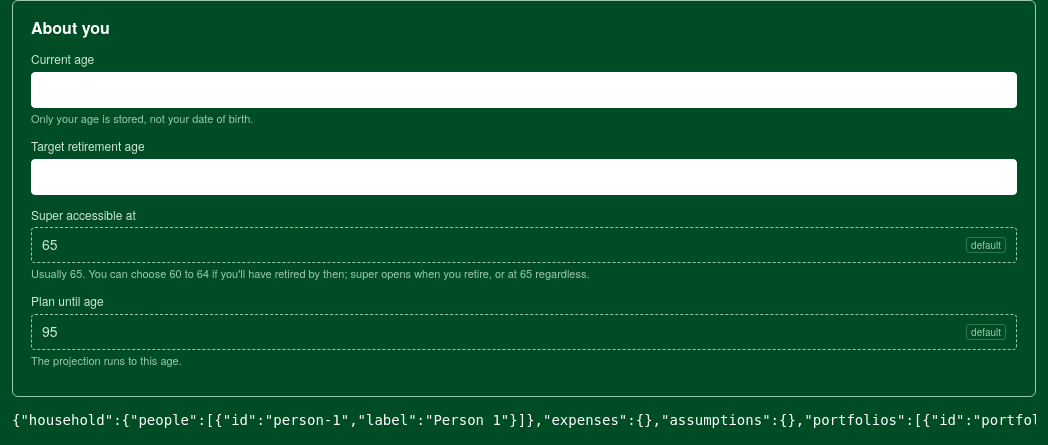
Test: PersonAgesSection › stores a typed plan-until age and clears it back to the default
Type "90" into the field labelled "Plan until age" at (501, 332), box [42,322,960,342]
Then press Enter
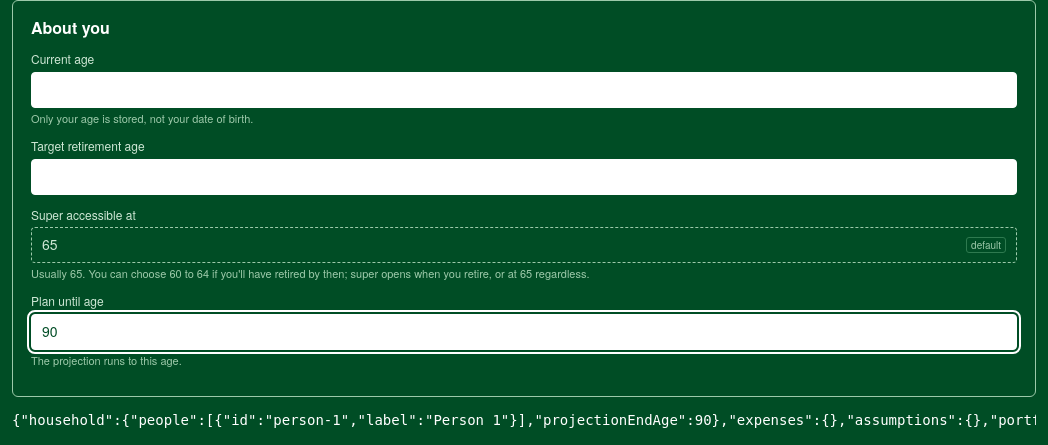
Clear the field labelled "Plan until age" at (524, 332), box [42,322,1006,342]
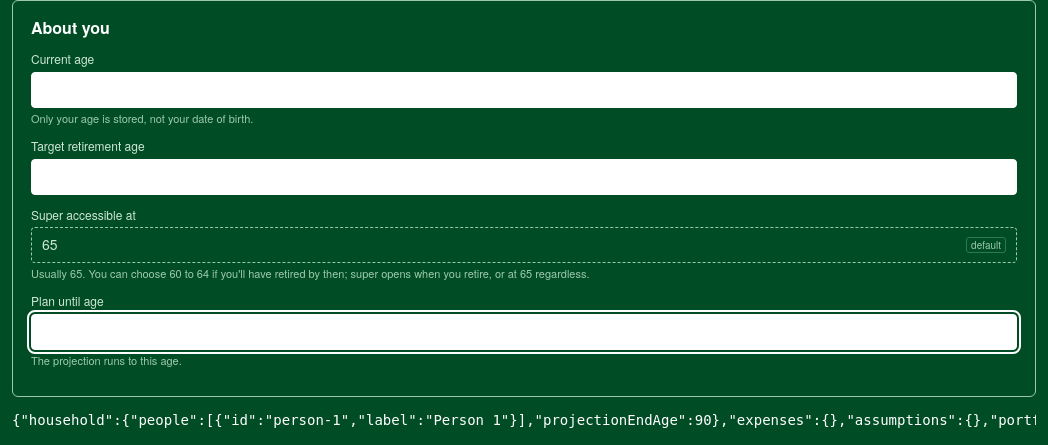
Press Tab
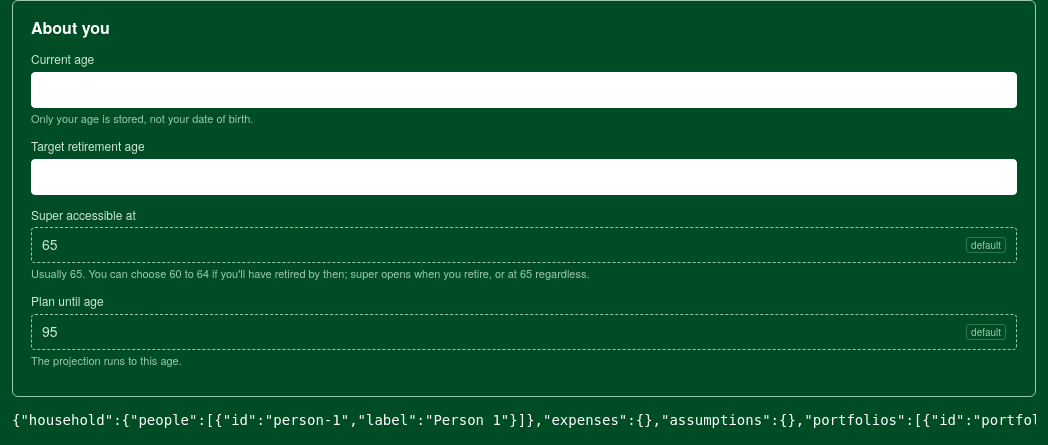
Result: the field labelled "Plan until age" holds "95" at [42,322,960,342]
